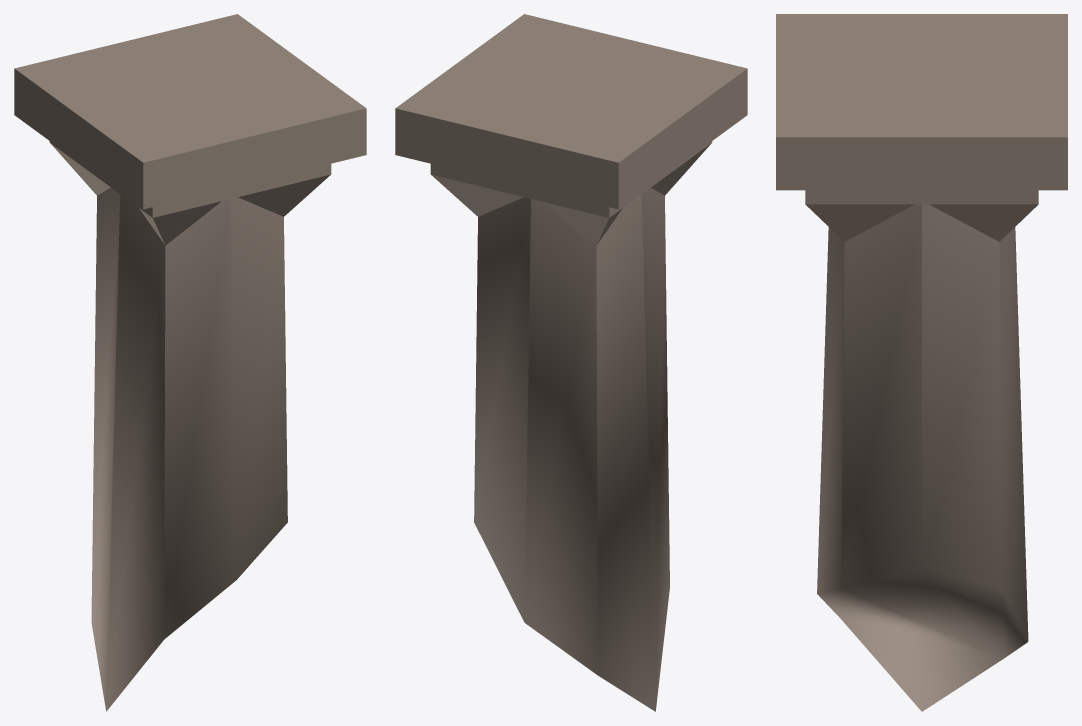
Rendered from Column_03_Broken_02.fbx.
3 views of the same model, side by side, from view 1: azimuth 30°, elevation 25°; view 2: azimuth 150°, elevation 25°; view 3: azimuth 270°, elevation 25° (orthographic). The views are drawn at different scales.
Parts seen in each view (by area): view 1: Cube.029; view 2: Cube.029; view 3: Cube.029.
Boxes of the visible parts, x1,y1,x2,y2 form: Cube.029: [14, 14, 366, 711]; Cube.029: [395, 14, 747, 711]; Cube.029: [776, 14, 1067, 711].
Bounding box in the file's own units: 100 × 258 × 100.
